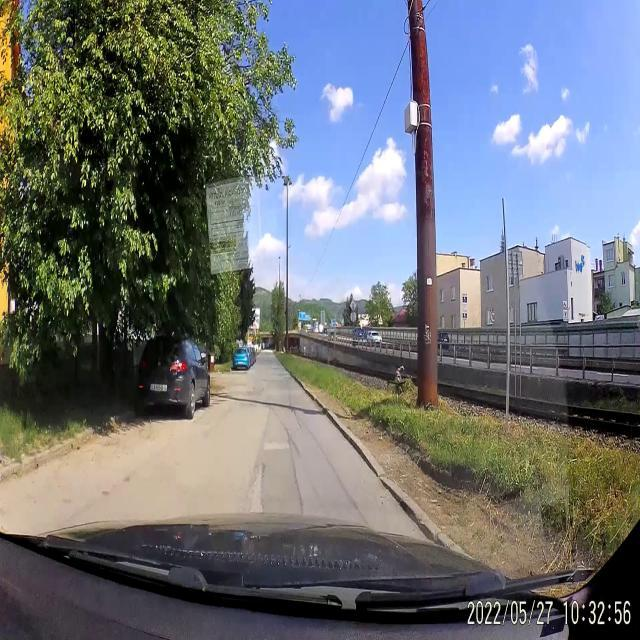Pothole: (246, 460, 268, 512)
